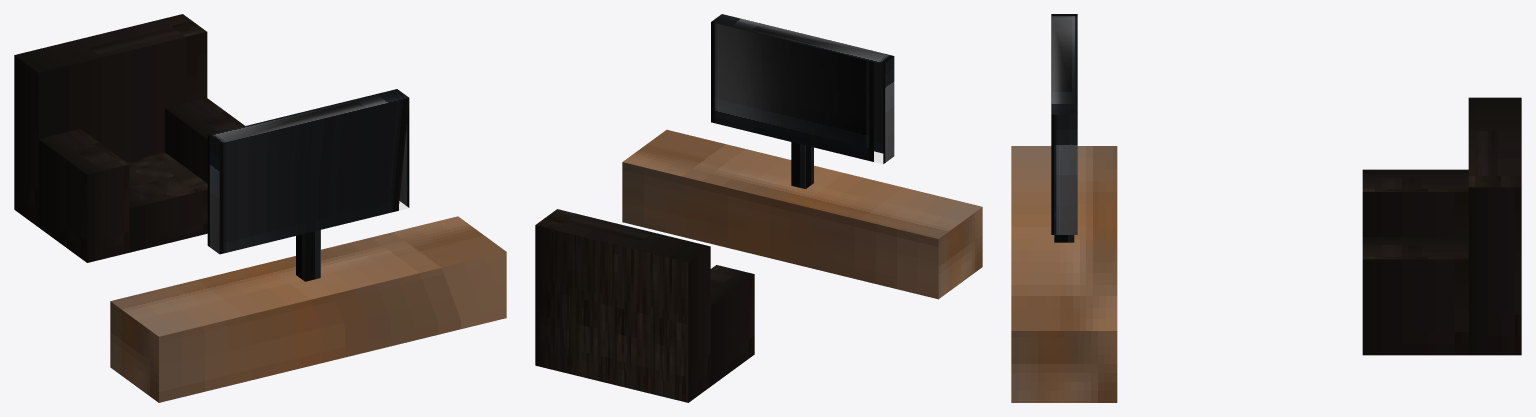
3 renders of one model, left to right at view 1: azimuth 30°, elevation 25°; view 2: azimuth 150°, elevation 25°; view 3: azimuth 270°, elevation 25°, orthographic. The views are drawn at different scales.
Visible parts, largest first — view 1: cuboid_4, cuboid_6, cuboid_1, cuboid_3, cuboid_0, cuboid_2, cuboid_5; view 2: cuboid_4, cuboid_1, cuboid_6, cuboid_3, cuboid_5; view 3: cuboid_4, cuboid_1, cuboid_2, cuboid_3, cuboid_6.
Part boxes in pixels (<box>): cuboid_4: <box>110,216,506,402</box>; cuboid_6: <box>207,89,409,254</box>; cuboid_1: <box>14,14,207,226</box>; cuboid_3: <box>38,129,129,262</box>; cuboid_0: <box>126,152,207,252</box>; cuboid_2: <box>165,98,244,183</box>; cuboid_5: <box>296,230,320,281</box>; cuboid_4: <box>622,129,982,299</box>; cuboid_1: <box>535,209,710,402</box>; cuboid_6: <box>711,14,894,164</box>; cuboid_3: <box>710,265,754,386</box>; cuboid_5: <box>791,142,813,188</box>; cuboid_4: <box>1011,146,1117,402</box>; cuboid_1: <box>1468,97,1521,355</box>; cuboid_2: <box>1362,237,1468,355</box>; cuboid_3: <box>1362,169,1468,236</box>; cuboid_6: <box>1051,14,1077,234</box>.
Size of the model in its own units: 2.36 by 1.46 by 2.75.
5 materials, 4 textured.
